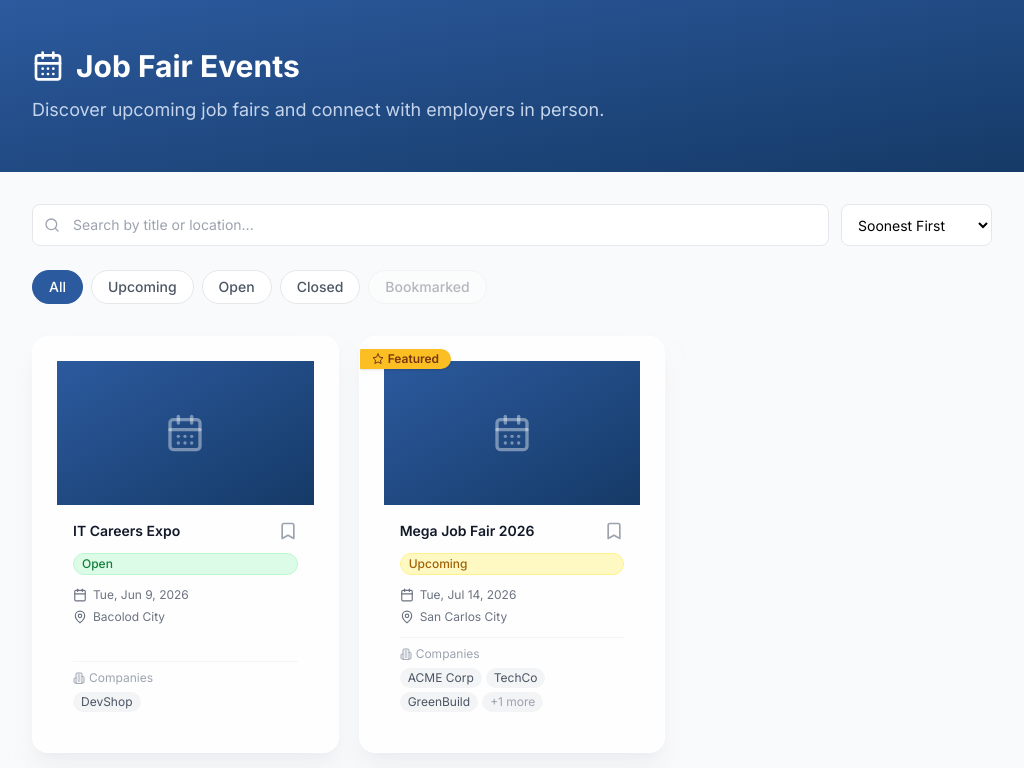
Scenario: JobFairs › shows empty state when no events match search
The image size is (1024, 768).
Expected: the heading "Mega Job Fair 2026" is shown, [400,521,534,540]
Type "zzznomatch" into the field with placeholder "Search by title or location..." at (430, 225), box [32,204,829,246]
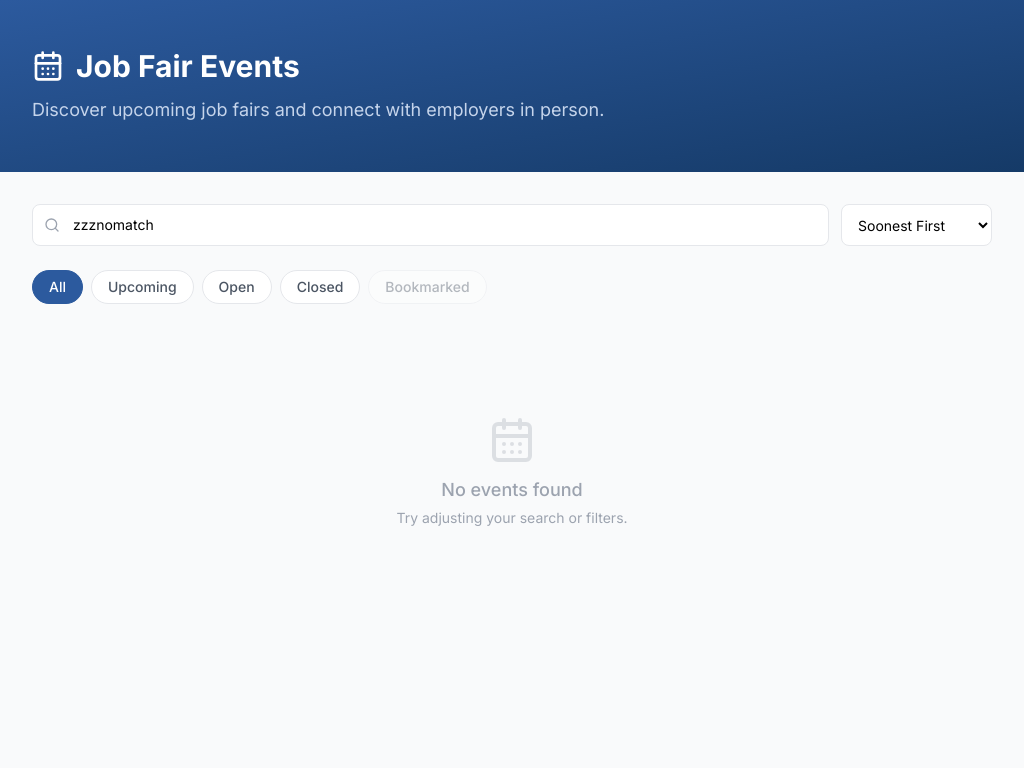
Now the text "No events found" is shown, box [441,479,583,500]
